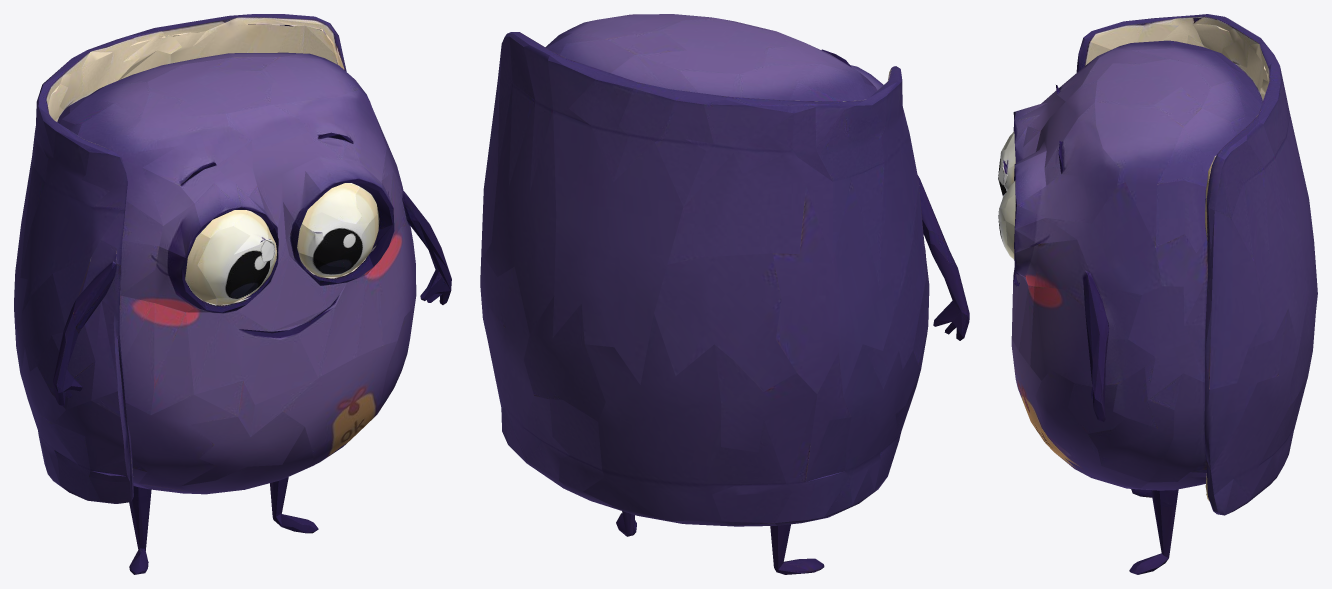
The model's file is livro-com-pernas.glb.
The picture shows the model from 3 angles, left to right: view 1: azimuth 30°, elevation 25°; view 2: azimuth 150°, elevation 25°; view 3: azimuth 270°, elevation 25°; orthographic projection. The views are drawn at different scales.
Size of the model in its own units: 1.71 by 1.9 by 1.21.
Materials: 1 (1 with a texture image).
